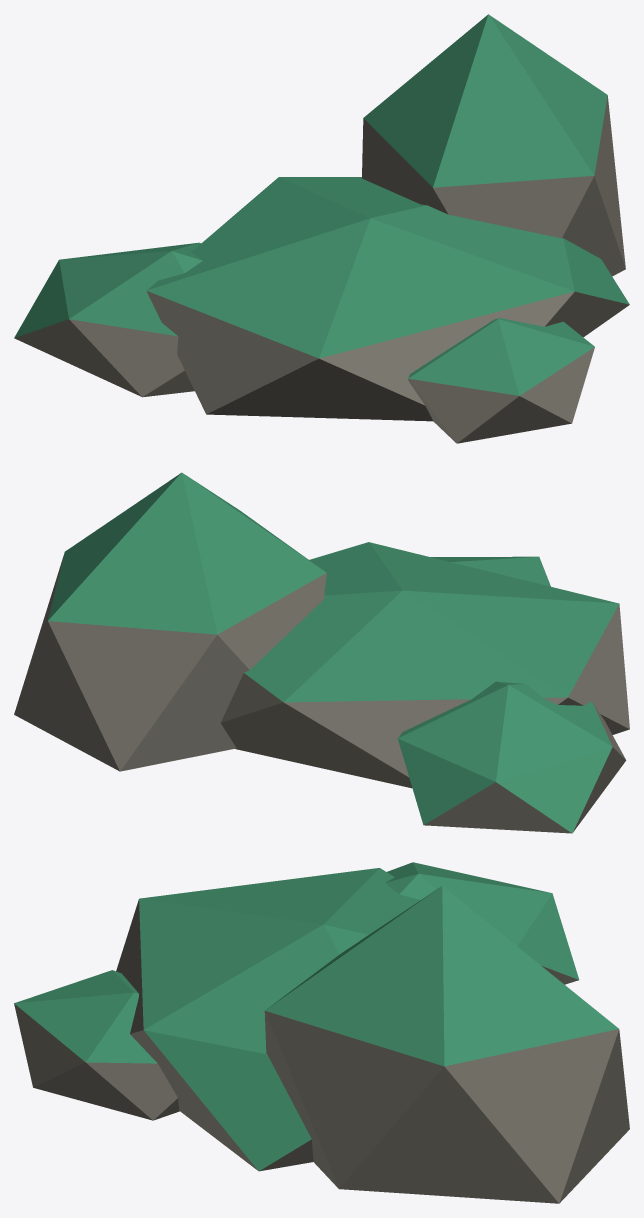
The model's file is W3_Rock_C.fbx.
The picture shows the model from 3 angles, top to bottom: view 1: azimuth 30°, elevation 25°; view 2: azimuth 150°, elevation 25°; view 3: azimuth 270°, elevation 25°; orthographic projection. The views are drawn at different scales.
Parts seen in each view (by area): view 1: W3_Rock_C; view 2: W3_Rock_C; view 3: W3_Rock_C.
Part boxes in pixels (x1,y1,x2,y2): W3_Rock_C: (14,14,629,443); W3_Rock_C: (14,472,629,833); W3_Rock_C: (14,862,629,1203).
Size of the model in its own units: 4.07 by 1.71 by 3.64.
